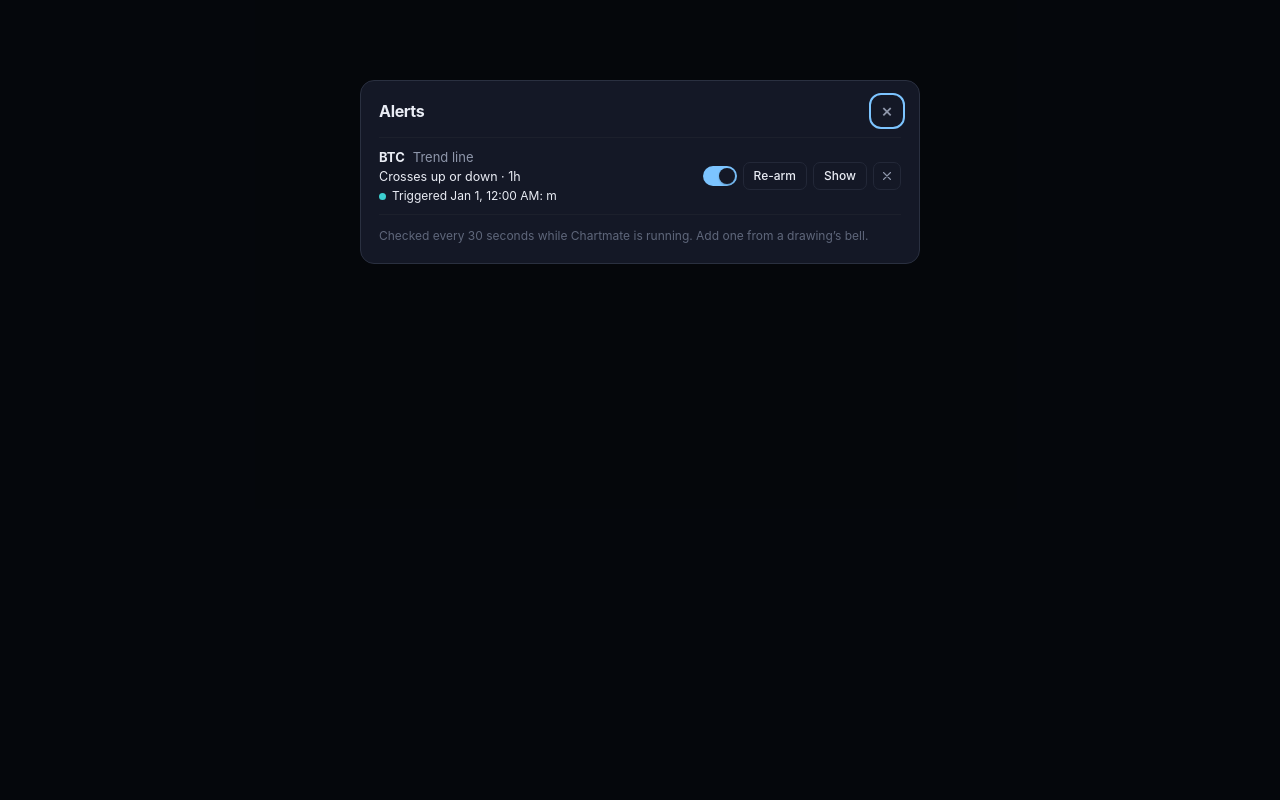
Scenario: AlertsDialog › re-arms a triggered alert; an empty list says how to add one
This screenshot has width=1280, height=800.
Later steps or results of the test are not shown.
Click the button "Re-arm". click: (775, 176)
box: [742,162,807,190]
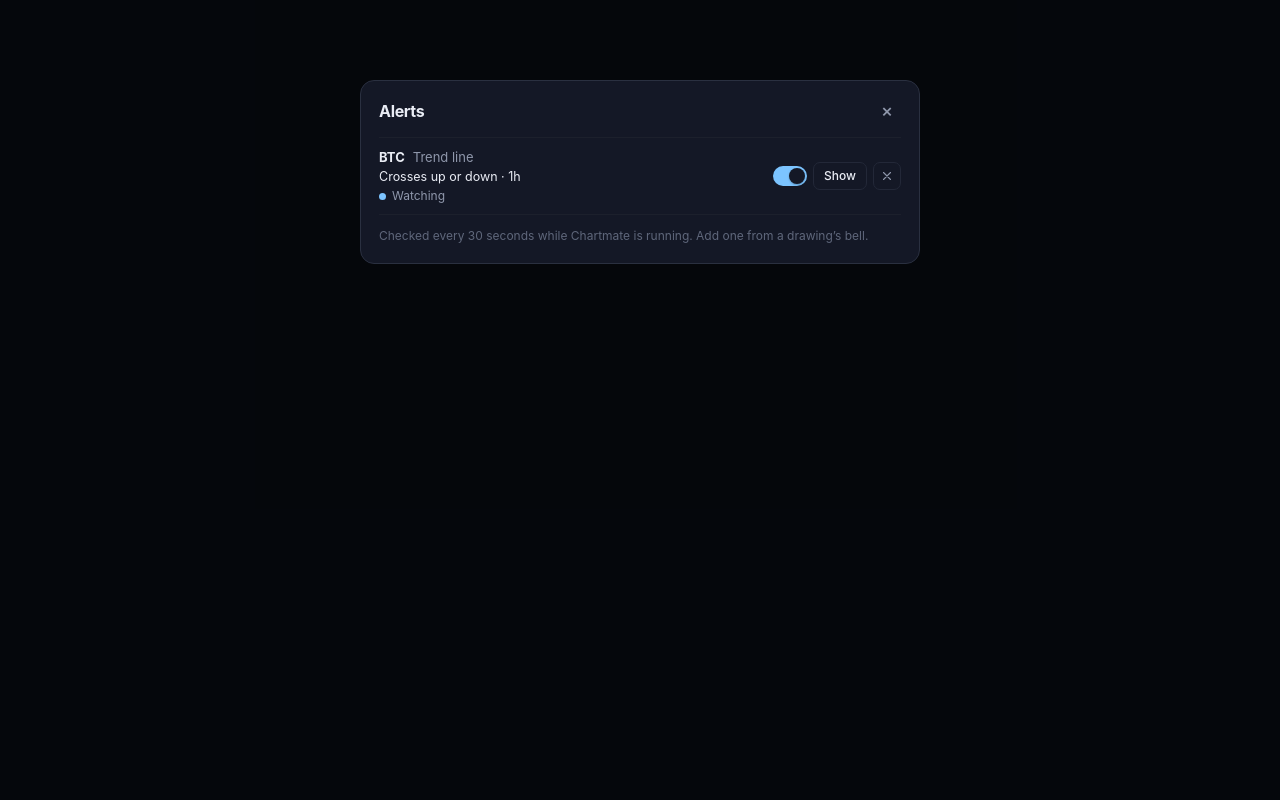
Result: the list item shows "Watching" at [392,188,445,203]
